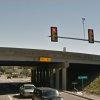Traffic light: (43, 20, 100, 52)
